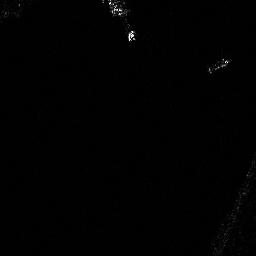ship: (209, 54, 231, 74)
